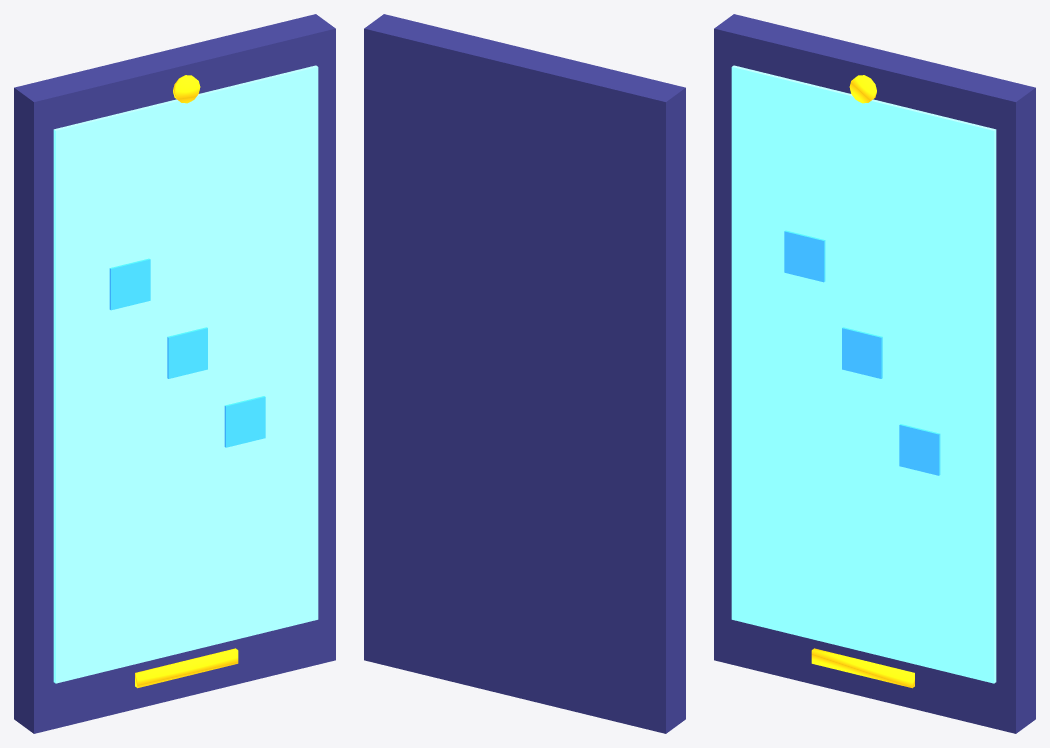
The model's file is phone.glb.
3 renders of one model, left to right at view 1: azimuth 30°, elevation 25°; view 2: azimuth 150°, elevation 25°; view 3: azimuth 330°, elevation 25°, orthographic.
Parts seen in each view (by area): view 1: screen, shell, icons, detail; view 2: shell; view 3: screen, shell, icons, detail.
Part boxes in pixels (left/top/right/bottom): screen: left=53, top=65, right=318, bottom=683; shell: left=14, top=14, right=335, bottom=733; icons: left=109, top=258, right=265, bottom=447; detail: left=135, top=75, right=238, bottom=688; shell: left=364, top=14, right=685, bottom=733; screen: left=731, top=65, right=996, bottom=683; shell: left=714, top=14, right=1035, bottom=733; icons: left=784, top=230, right=940, bottom=475; detail: left=811, top=75, right=914, bottom=688.
Bounding box in the file's own units: 0.84 × 1.68 × 0.112.
